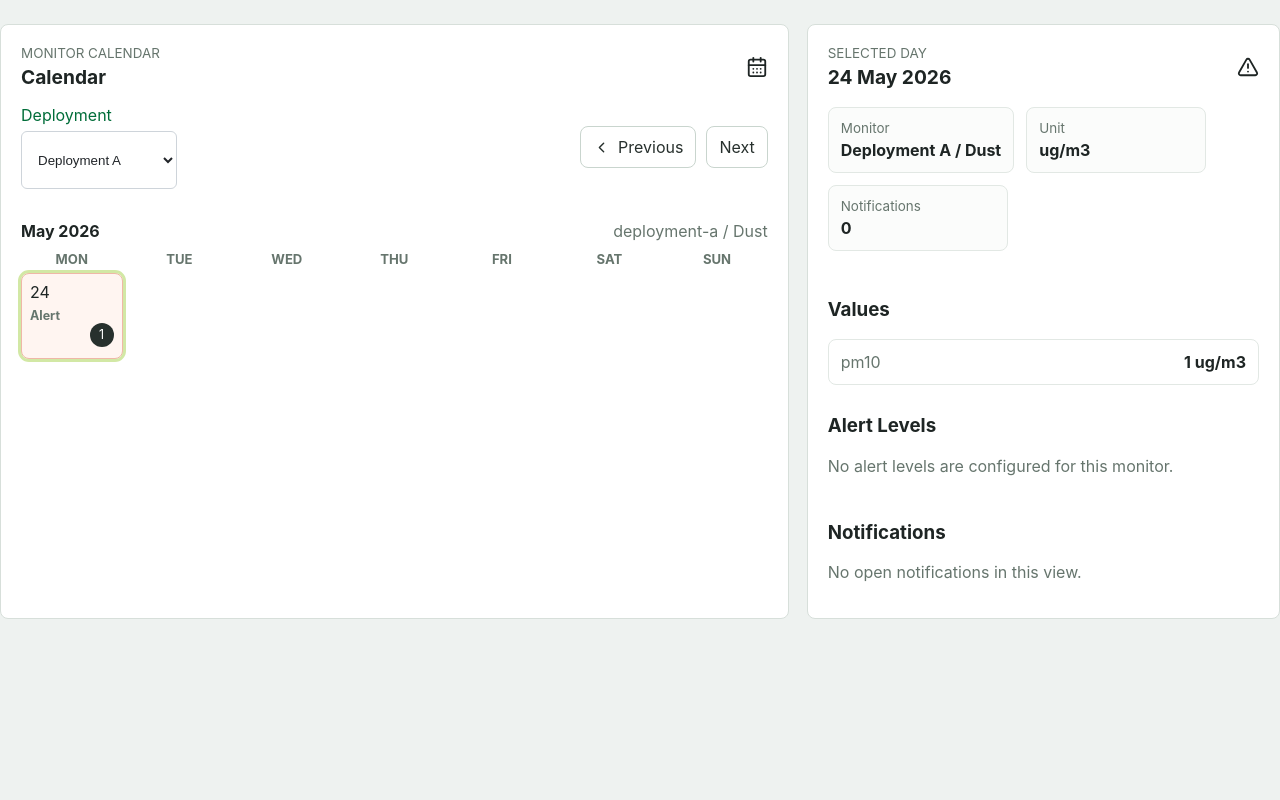
Test: Portal dashboard request ownership › hides a previous calendar day when a same-date deployment change has no completed day response
The width and height of the screenshot is (1280, 800).
Check: the text "Deployment A / Dust" is shown, box [841,140,1001,160]
Select "Deployment B" in the dropdown labelled "Deployment" at (99,160), box [21,131,177,189]
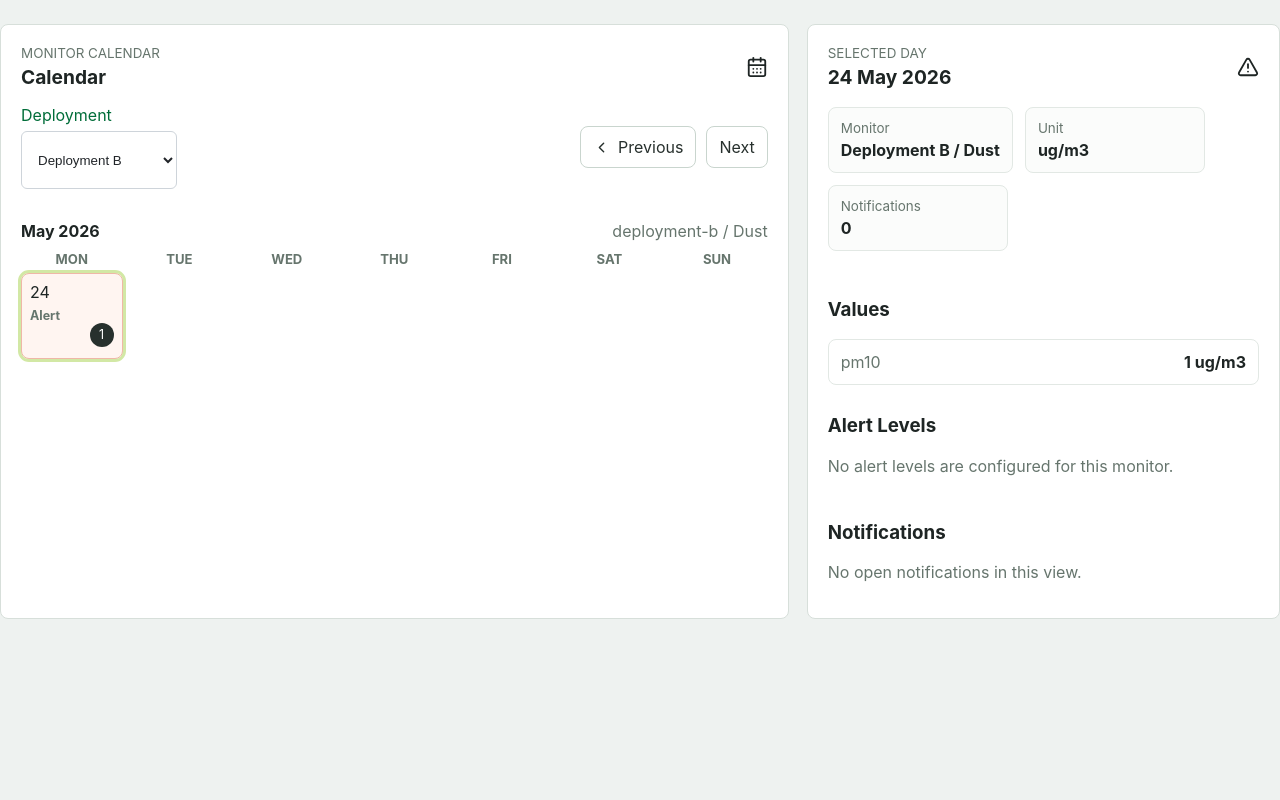
Check: the text "Deployment A / Dust" is gone
Check: the text "Deployment B / Dust" is shown, box [841,140,1000,160]
